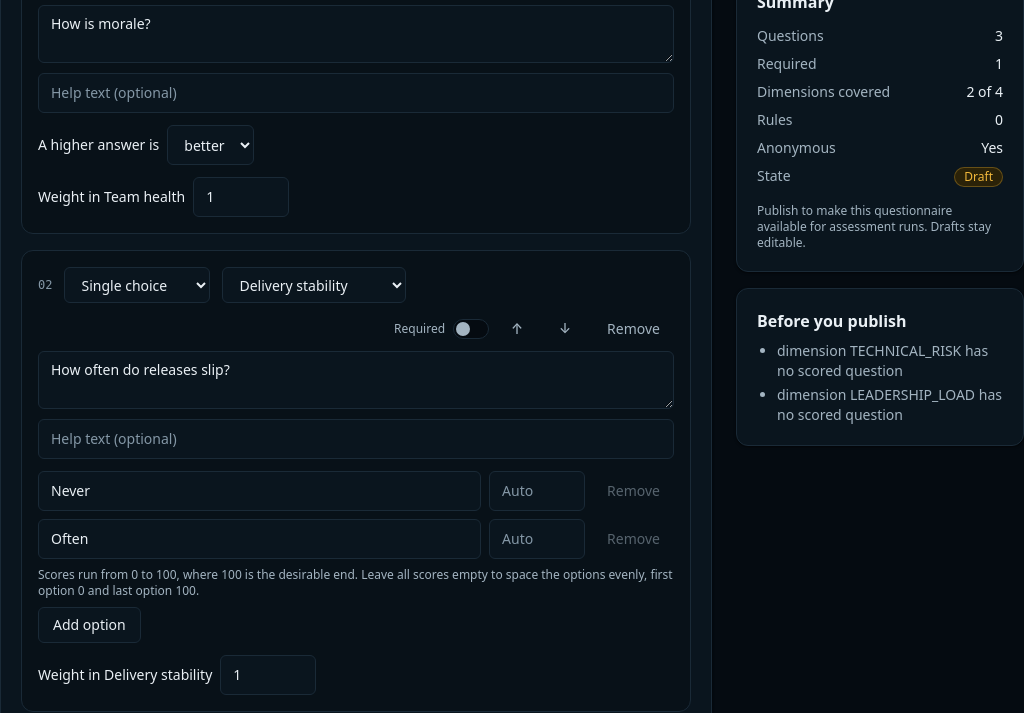
Test: BuilderPage: editing › moves and removes questions
(page scrolled)
Step 1. Click the button named "Move Question 2 up" → [517, 329], box 497,311 -> 537,347
(page scrolled)
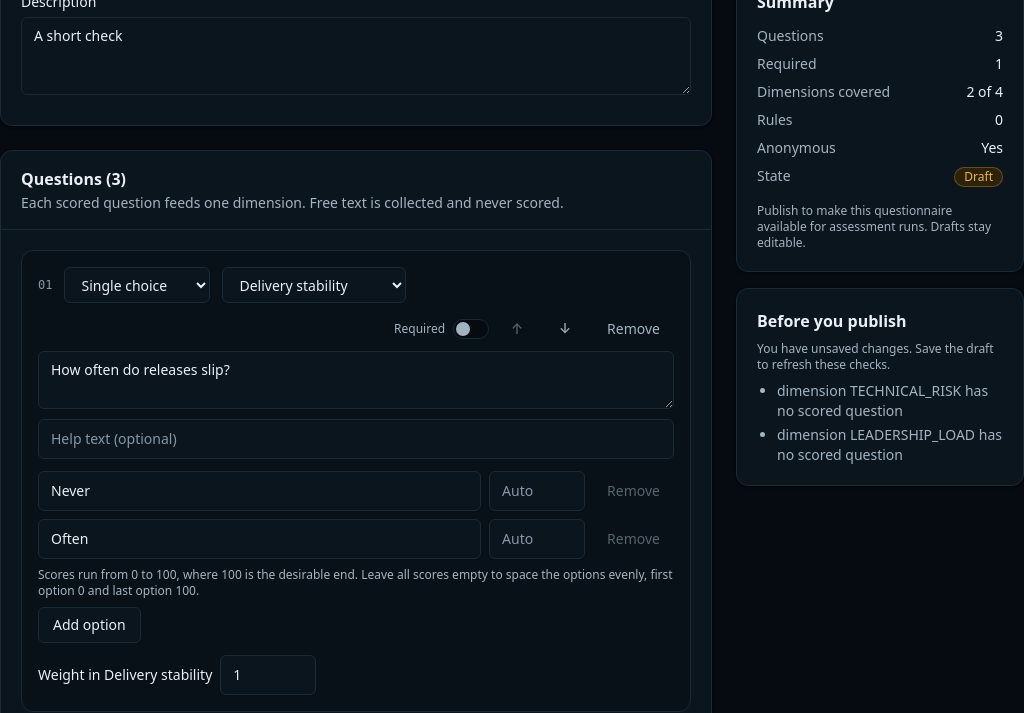
Expected: the text box named "Question 1 text" holds "How often do releases slip?", 38,351 -> 674,409
Now the button named "Move Question 1 up" is disabled, box 497,311 -> 537,347
Step 2. Click the button with aria-label "Remove Question 1" → [634, 329], box 593,311 -> 674,347
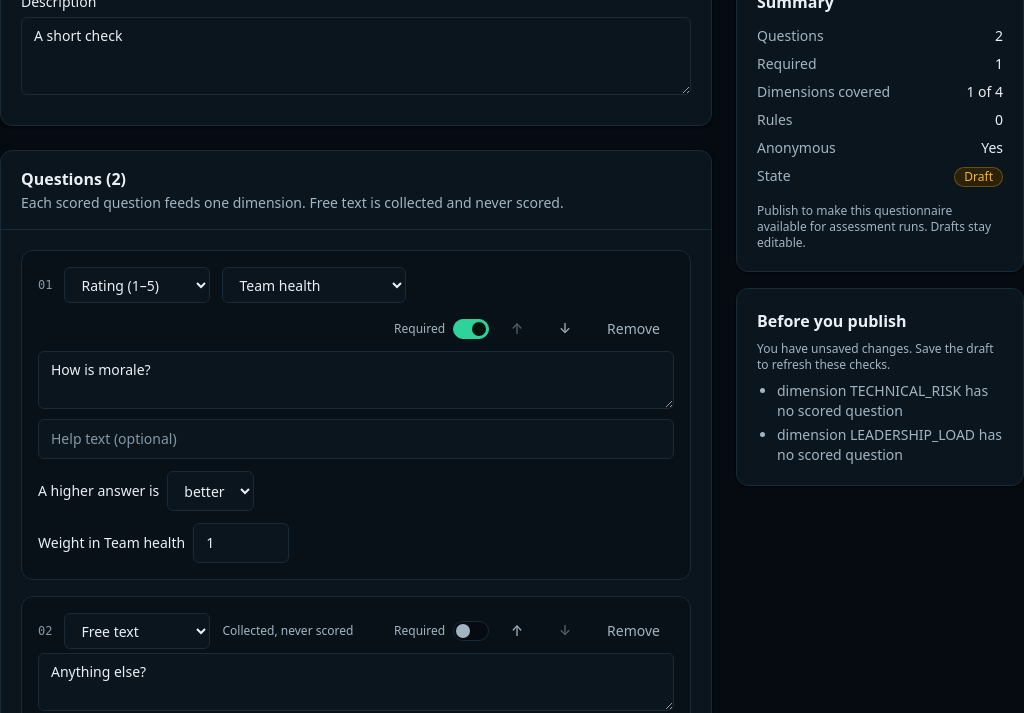
Now the heading "Questions (2)" is shown, box 21,168 -> 126,190
